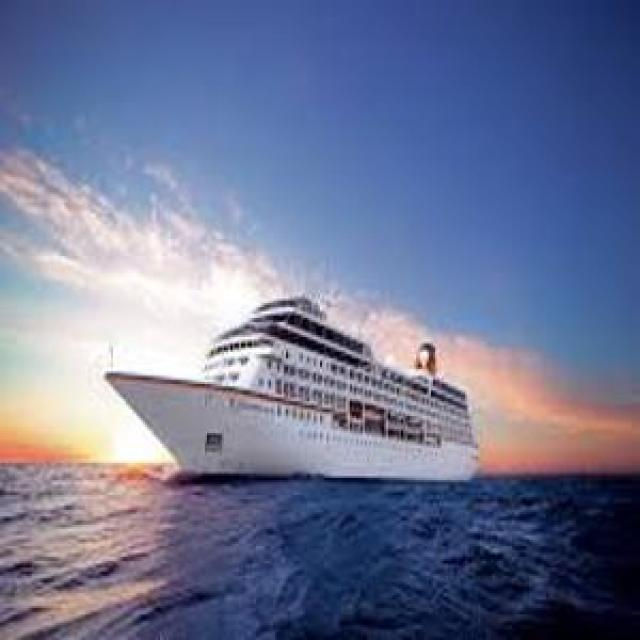passenger ship: (102, 285, 481, 486)
